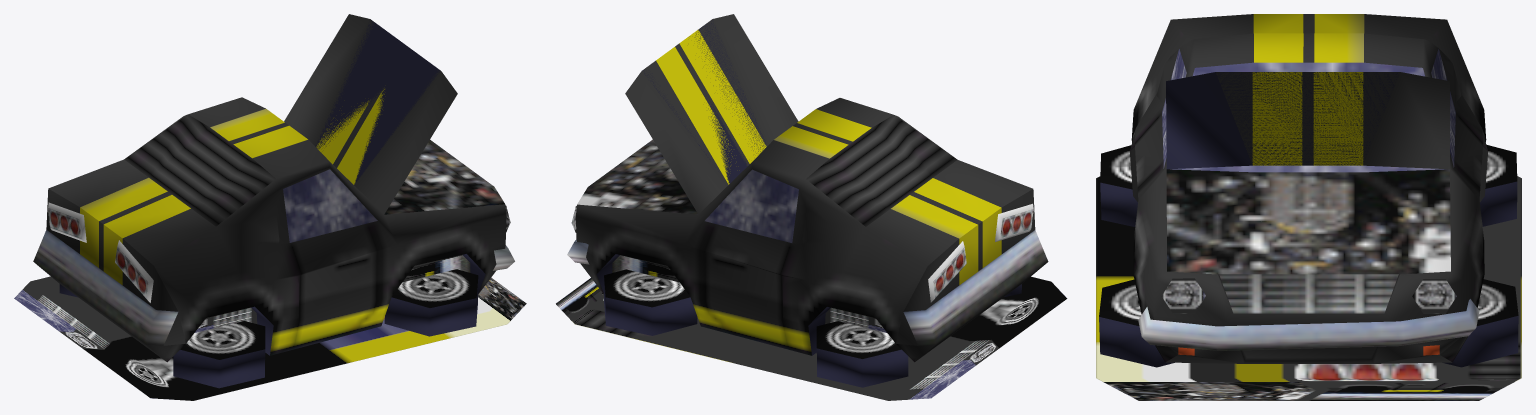
Rendered from RUN3SYSD.ICN.obj.
The picture shows the model from 3 angles, left to right: view 1: azimuth 30°, elevation 25°; view 2: azimuth 150°, elevation 25°; view 3: azimuth 270°, elevation 25°; orthographic projection. The views are drawn at different scales.
Size of the model in its own units: 4.69 by 2.66 by 3.5.
1 material, 1 textured.
